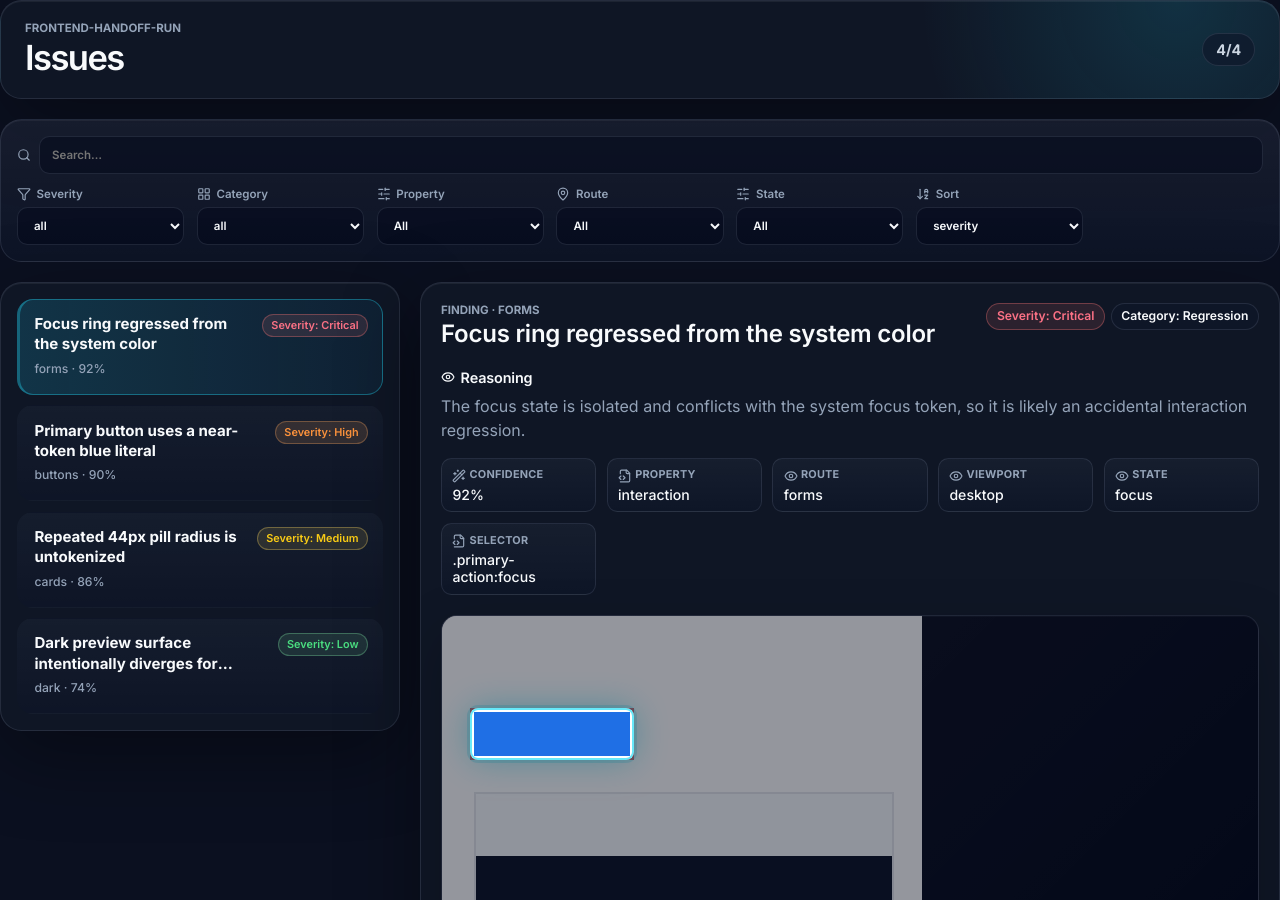
Scenario: IssueWorkbench › filters deterministically and selects the first visible issue when needed
Select "critical" in the dropdown labelled "Severity" at (100, 226), box [17, 207, 184, 245]
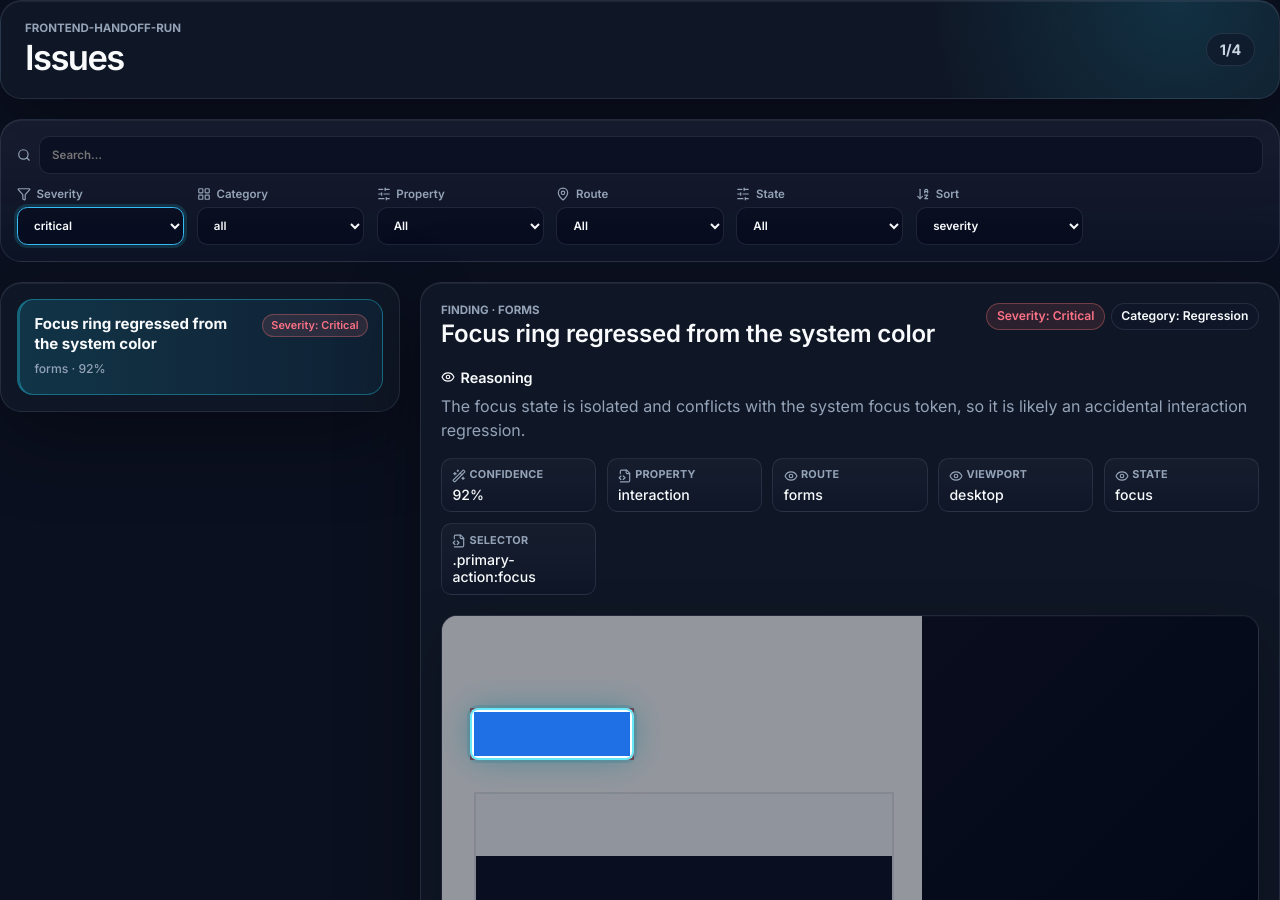
Expected: the heading "Focus ring regressed from the system color" is shown, [441, 319, 935, 348]
Expected: the text "1/4" is shown, [1206, 33, 1255, 66]
Expected: the button "Primary button uses" is gone
